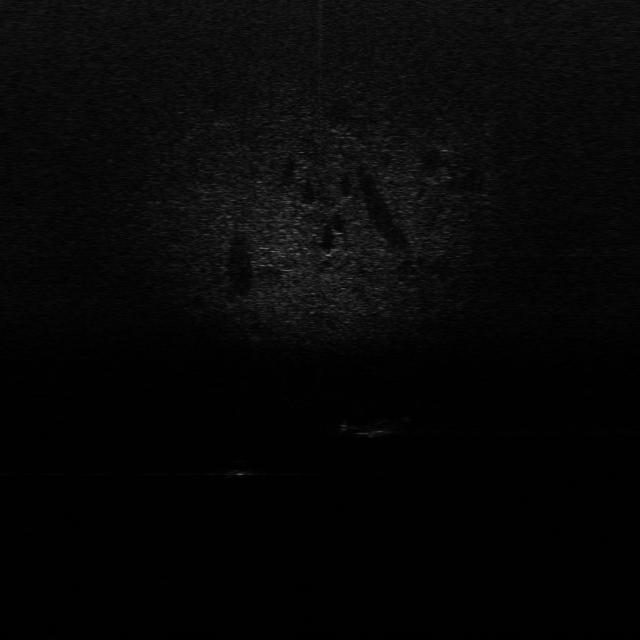ball: (230, 457, 258, 476)
human body: (334, 416, 414, 445)
